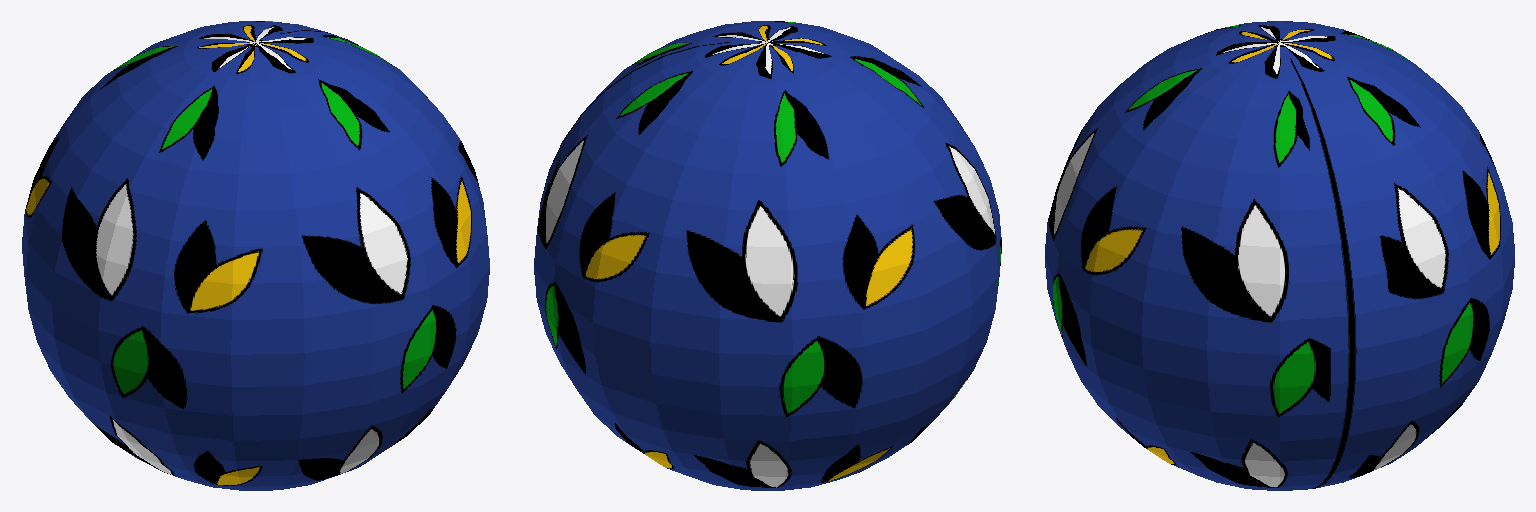
The picture shows the model from 3 angles: view 1: azimuth 30°, elevation 25°; view 2: azimuth 150°, elevation 25°; view 3: azimuth 270°, elevation 25°; orthographic projection.
Parts seen in each view (by area): view 1: pSphere9; view 2: pSphere9; view 3: pSphere9.
Boxes of the visible parts, x1=… form: pSphere9: x1=22, y1=21, x2=489, y2=490; pSphere9: x1=534, y1=21, x2=1001, y2=490; pSphere9: x1=1045, y1=21, x2=1514, y2=490.
Bounding box in the file's own units: 3.4 × 3.4 × 3.4.
1 materials, 1 textured.